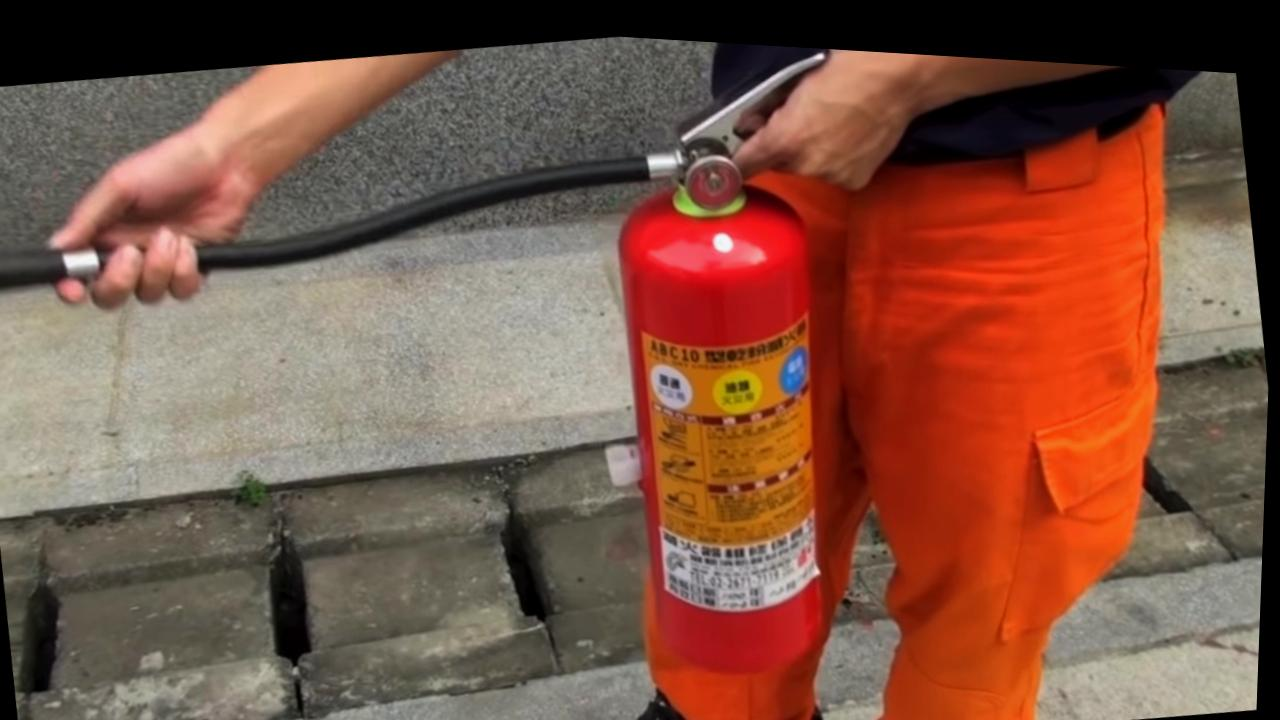FireExtinguisher: (541, 113, 898, 709)
